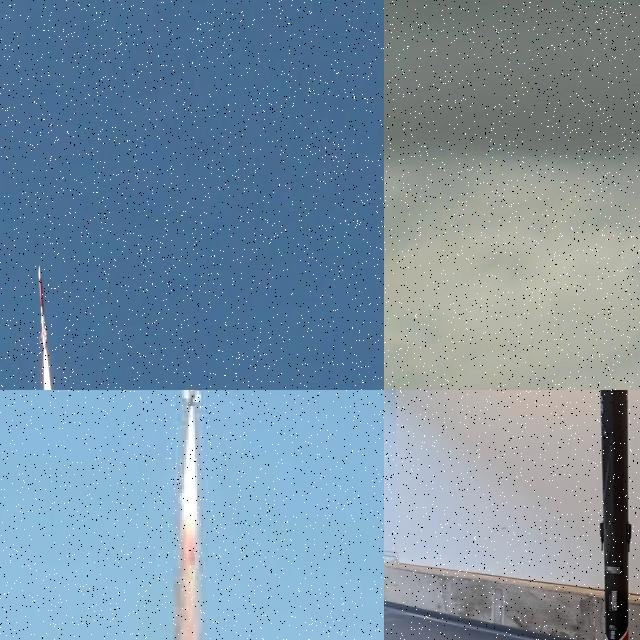Rocket: (599, 390, 632, 640), (38, 266, 48, 351)
